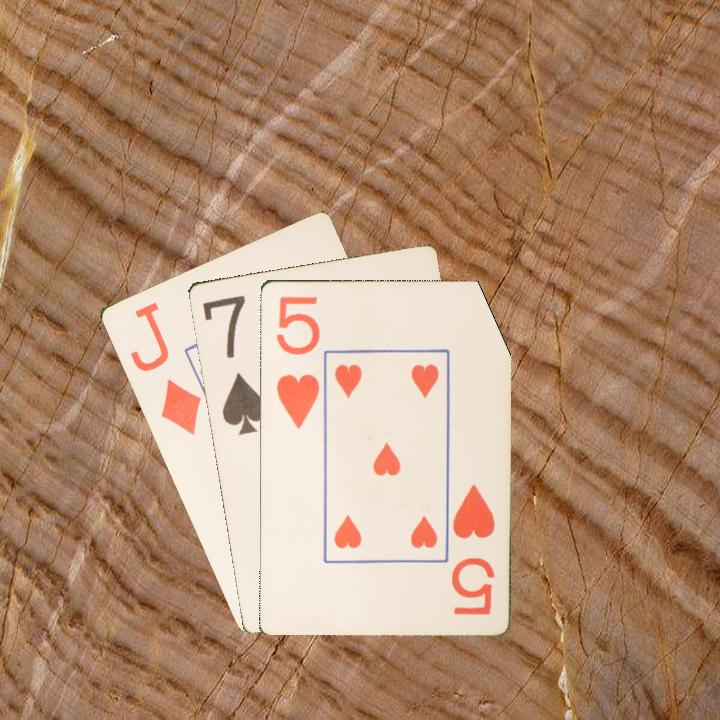5h: (272, 292, 322, 431), (448, 480, 497, 617)
7s: (198, 291, 269, 438)
Jd: (126, 298, 204, 438)
